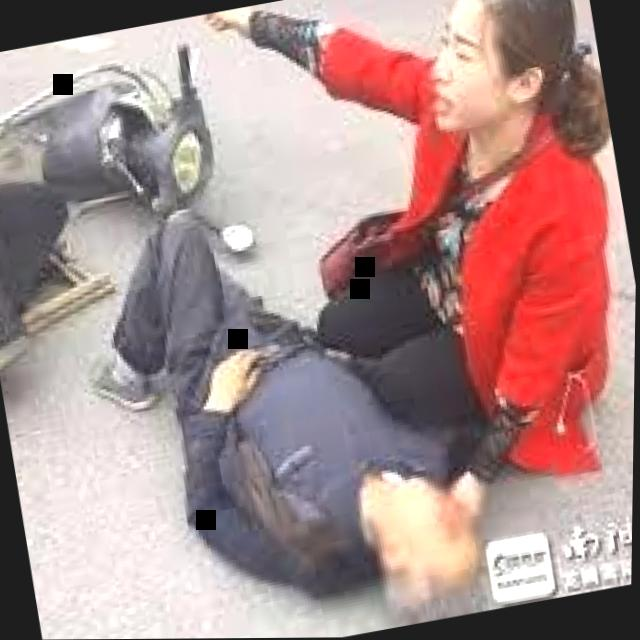Fall-Detected: (44, 155, 506, 640)
